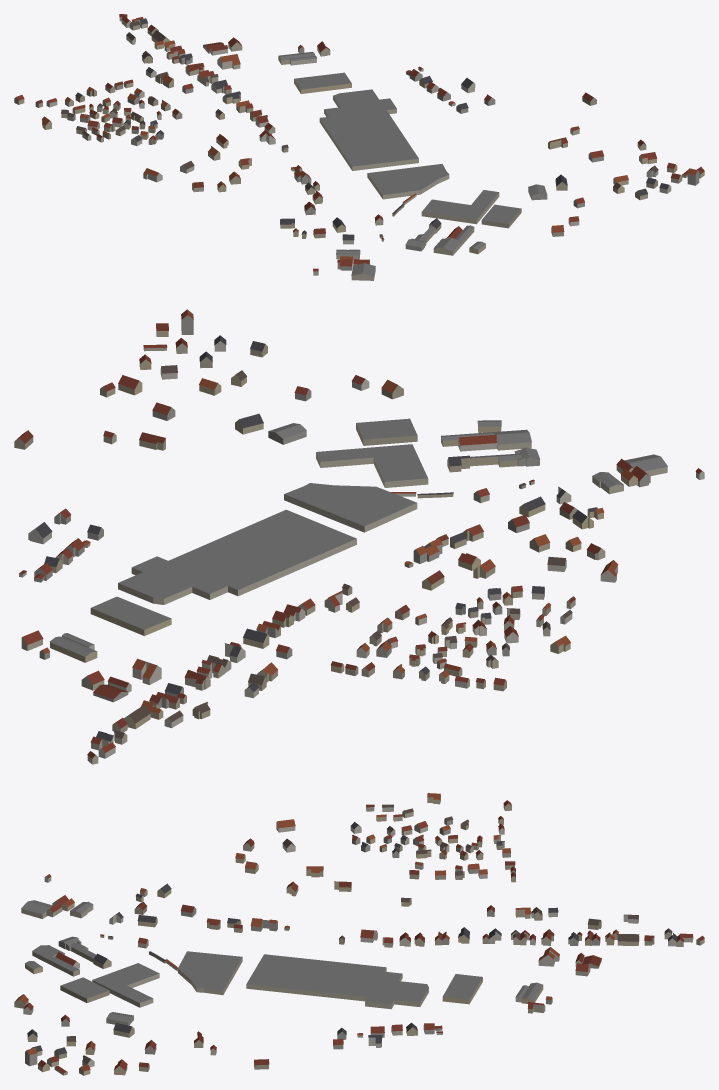
3 views of the same model, one above another, from view 1: azimuth 30°, elevation 25°; view 2: azimuth 150°, elevation 25°; view 3: azimuth 270°, elevation 25° (orthographic). The views are drawn at different scales.
Visible parts, largest first — view 1: buildings; view 2: buildings; view 3: buildings.
Part boxes in pixels (x1,y1,x2,y2): buildings: (14,14,704,280); buildings: (14,309,704,764); buildings: (14,793,704,1075).
Size of the model in its own units: 680 by 71.02 by 813.
